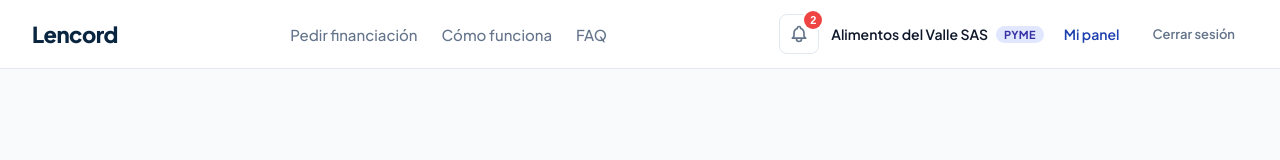
Test: Header Component › Logout Flow & State Resolution (Issue #77) › terminates Supabase auth session, updates UI to unauthenticated state, and redirects to / immediately
This screenshot has width=1280, height=160.
Check: the text with test id "header-user-name" reads "Alimentos del Valle SAS", box [831,25,988,43]
Click the button with test id "header-logout-button": (1194,34) [1140,18,1248,50]
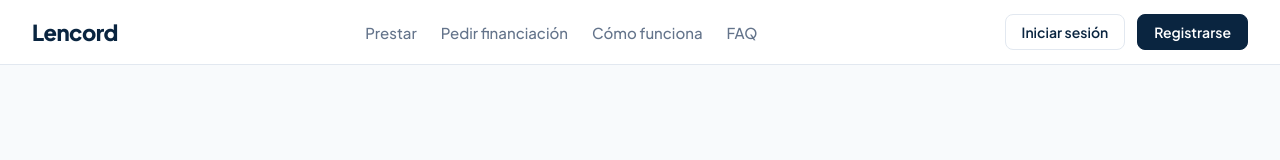
Check: the link with test id "header-login-link" is shown, box [1005,14,1125,50]
Check: the link with test id "header-register-link" is shown, box [1137,14,1248,50]
